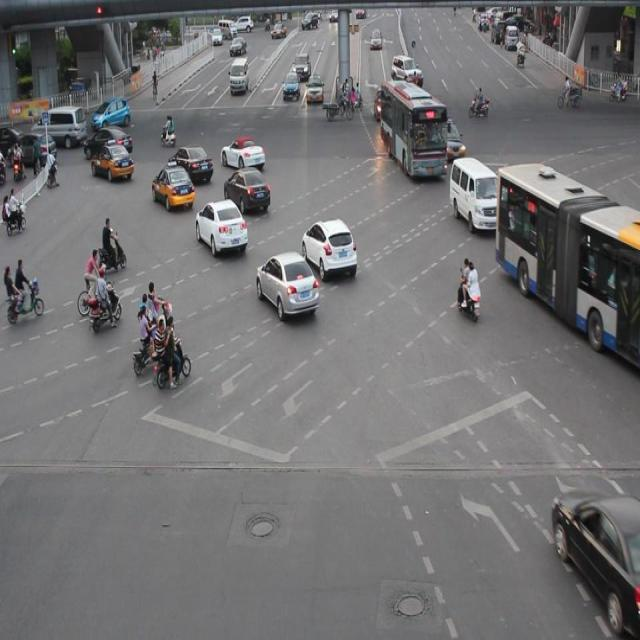BigCar: (502, 159, 632, 365), (375, 74, 436, 182)
car: (520, 438, 640, 625), (243, 256, 328, 326), (304, 217, 374, 280), (167, 128, 214, 194), (452, 159, 492, 236), (193, 201, 252, 249), (221, 174, 287, 215), (219, 122, 270, 171), (91, 134, 131, 182), (221, 59, 261, 107), (158, 159, 192, 211), (45, 105, 87, 146), (14, 122, 61, 158), (93, 91, 130, 126), (284, 70, 300, 115), (305, 77, 322, 115), (294, 46, 317, 74)
